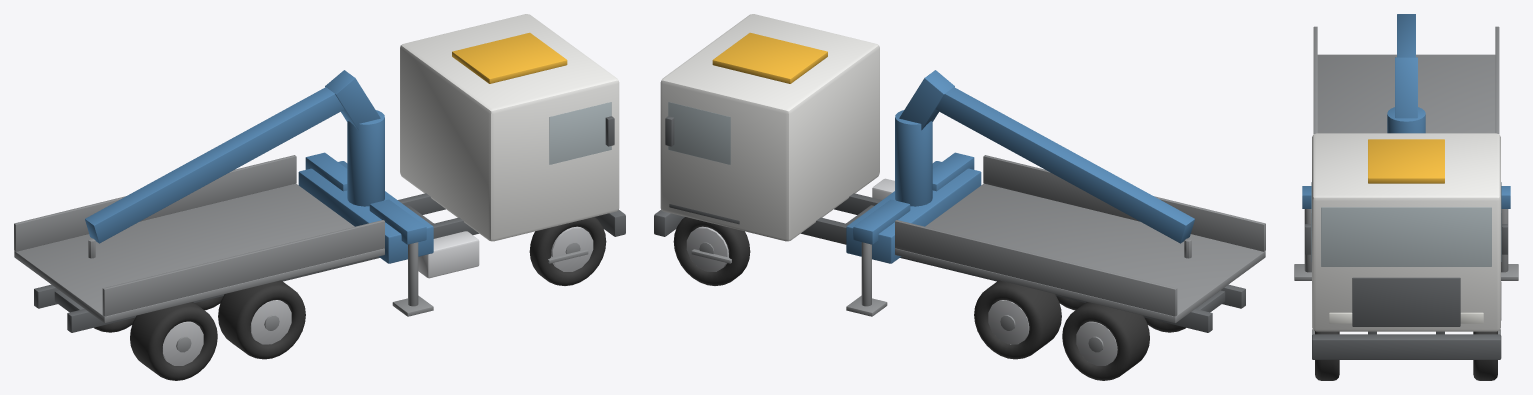
The model's file is EQP-ELV-004_anim.glb.
3 renders of one model, left to right at view 1: azimuth 30°, elevation 25°; view 2: azimuth 150°, elevation 25°; view 3: azimuth 270°, elevation 25°, orthographic. The views are drawn at different scales.
Parts seen in each view (by area): view 1: EQP-ELV-004_anim4, EQP-ELV-004_anim2, EQP-ELV-004_anim3, EQP-ELV-004_anim0, EQP-ELV-004_anim1; view 2: EQP-ELV-004_anim4, EQP-ELV-004_anim2, EQP-ELV-004_anim3, EQP-ELV-004_anim1, EQP-ELV-004_anim0; view 3: EQP-ELV-004_anim4, EQP-ELV-004_anim3, EQP-ELV-004_anim2, EQP-ELV-004_anim0, EQP-ELV-004_anim1.
Boxes of the visible parts, box(x1,y1,x2,y2) form: EQP-ELV-004_anim4: box(14, 14, 625, 380); EQP-ELV-004_anim2: box(85, 87, 344, 258); EQP-ELV-004_anim3: box(325, 70, 384, 206); EQP-ELV-004_anim0: box(369, 199, 433, 316); EQP-ELV-004_anim1: box(305, 152, 347, 191); EQP-ELV-004_anim4: box(654, 14, 1265, 380); EQP-ELV-004_anim2: box(935, 87, 1194, 258); EQP-ELV-004_anim3: box(895, 70, 954, 206); EQP-ELV-004_anim1: box(846, 199, 910, 316); EQP-ELV-004_anim0: box(932, 152, 974, 191); EQP-ELV-004_anim4: box(1305, 26, 1507, 380); EQP-ELV-004_anim3: box(1387, 57, 1425, 133); EQP-ELV-004_anim2: box(1397, 14, 1415, 57); EQP-ELV-004_anim0: box(1294, 186, 1311, 280); EQP-ELV-004_anim1: box(1501, 186, 1518, 280).
Bounding box in the file's own units: 8.08 × 3.28 × 2.9.
